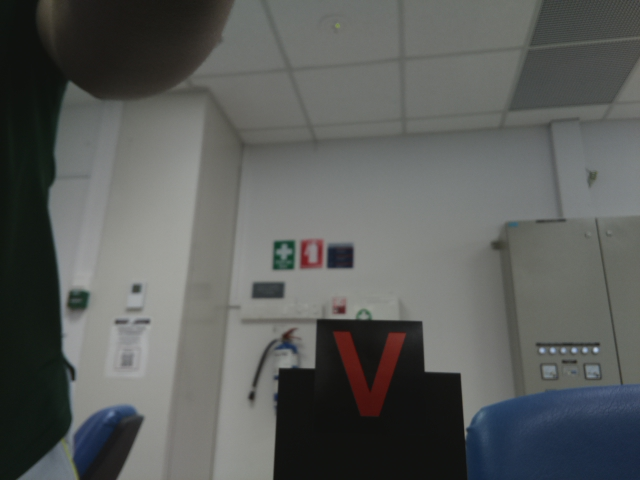v: (328, 325, 409, 431)
